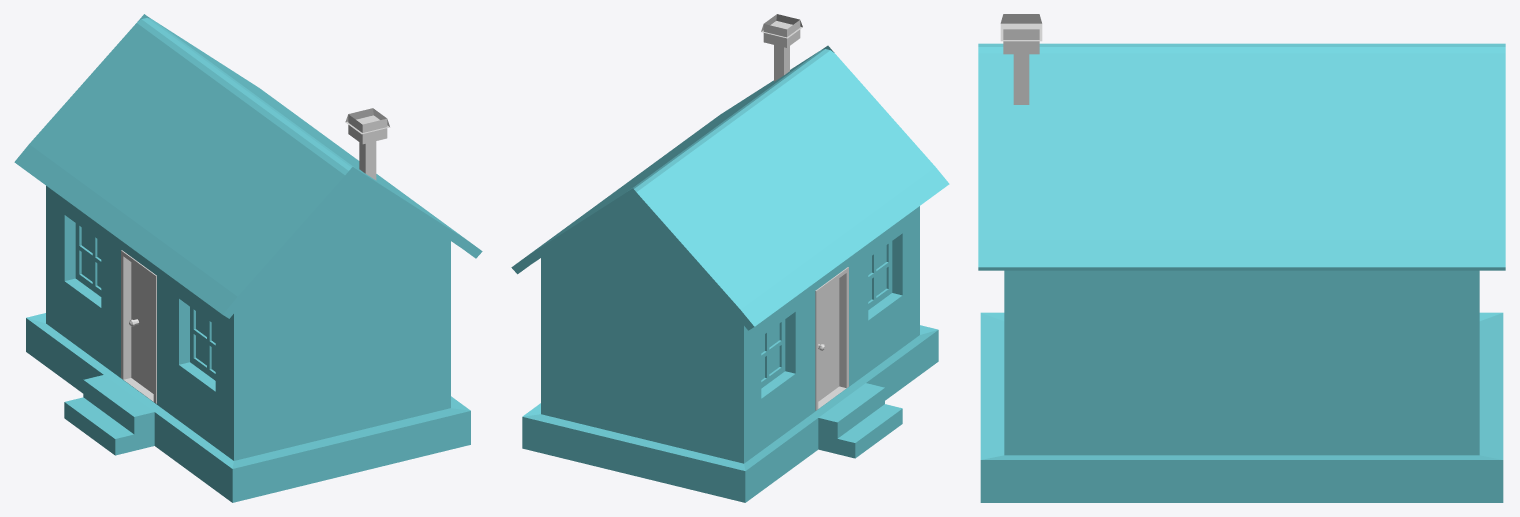
File: house.glb
The picture shows the model from 3 angles, left to right: view 1: azimuth 30°, elevation 25°; view 2: azimuth 150°, elevation 25°; view 3: azimuth 270°, elevation 25°; orthographic projection. The views are drawn at different scales.
Parts seen in each view (by area): view 1: walls, roof, door, window, chimney; view 2: walls, roof, door, window, chimney; view 3: walls, roof, chimney.
Boxes of the visible parts, box(x1,y1,x2,y2) form: walls: box(26, 175, 470, 502); roof: box(14, 14, 482, 318); door: box(121, 250, 156, 403); window: box(75, 223, 215, 380); chimney: box(345, 108, 389, 180); walls: box(522, 196, 938, 502); roof: box(511, 45, 949, 330); door: box(815, 267, 848, 410); window: box(761, 241, 892, 388); chimney: box(761, 14, 802, 81); walls: box(980, 270, 1503, 502); roof: box(978, 43, 1505, 270); chimney: box(1000, 14, 1042, 104).
Size of the model in its own units: 5.32 by 5.95 by 6.66.
